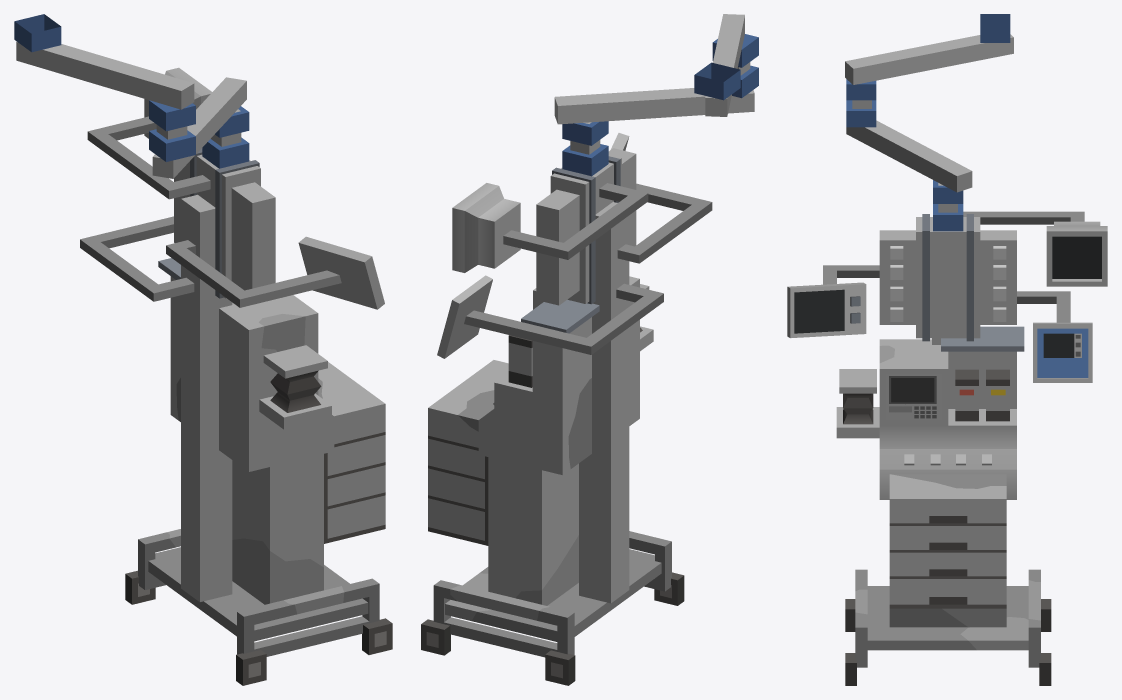
Rendered from AI_Prop_Surgery_Machine.fbx.
3 views of the same model, side by side, from view 1: azimuth 30°, elevation 25°; view 2: azimuth 150°, elevation 25°; view 3: azimuth 270°, elevation 25° (orthographic). The views are drawn at different scales.
Visible parts, largest first — view 1: AI_Prop_Surgery_Machine; view 2: AI_Prop_Surgery_Machine; view 3: AI_Prop_Surgery_Machine.
Part boxes in pixels (<box>): AI_Prop_Surgery_Machine: <box>14,14,392,685</box>; AI_Prop_Surgery_Machine: <box>421,14,758,685</box>; AI_Prop_Surgery_Machine: <box>787,14,1107,685</box>.
Bounding box in the file's own units: 2.23 × 4.43 × 2.33.
